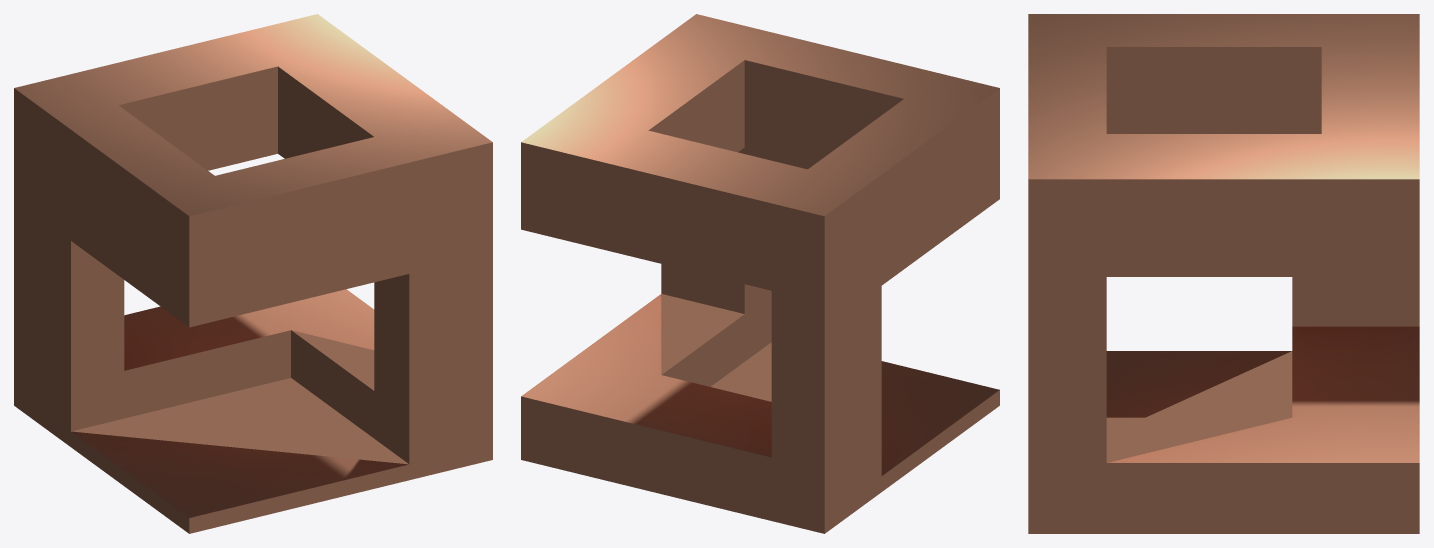
3 views of the same model, side by side, from view 1: azimuth 30°, elevation 25°; view 2: azimuth 150°, elevation 25°; view 3: azimuth 270°, elevation 25° (orthographic). The views are drawn at different scales.
Parts seen in each view (by area): view 1: sample; view 2: sample; view 3: sample.
Part boxes in pixels (left/top/right/bottom): sample: left=14, top=14, right=492, bottom=533; sample: left=521, top=14, right=999, bottom=533; sample: left=1028, top=14, right=1419, bottom=533.
Bounding box in the file's own units: 4 × 4 × 4.
1 material, 1 textured.
